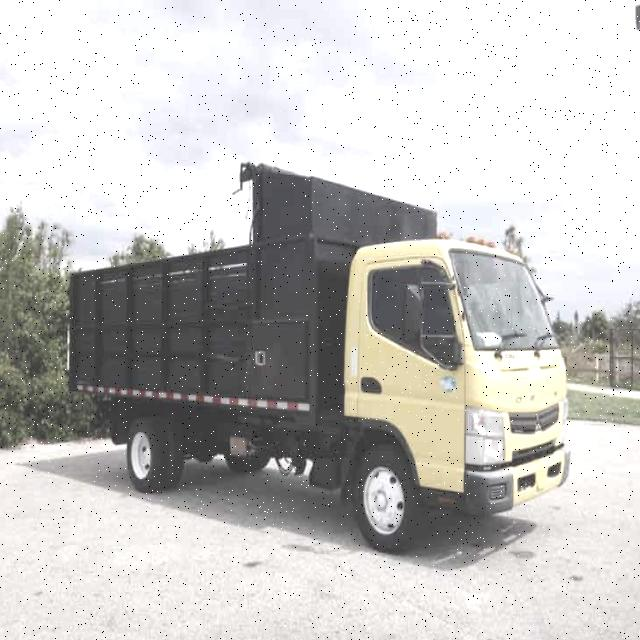truck: (71, 238, 570, 552)
